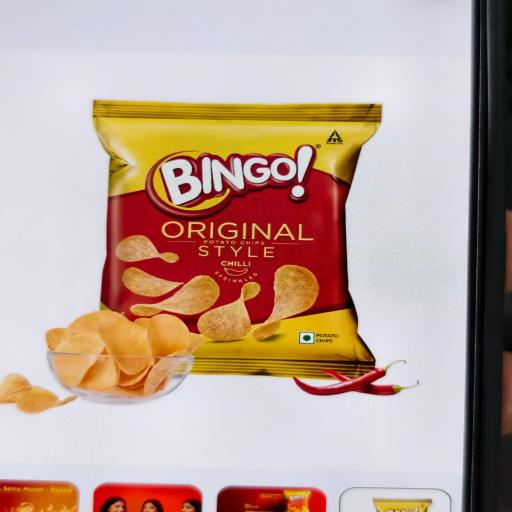green_chips: (93, 101, 381, 378)
